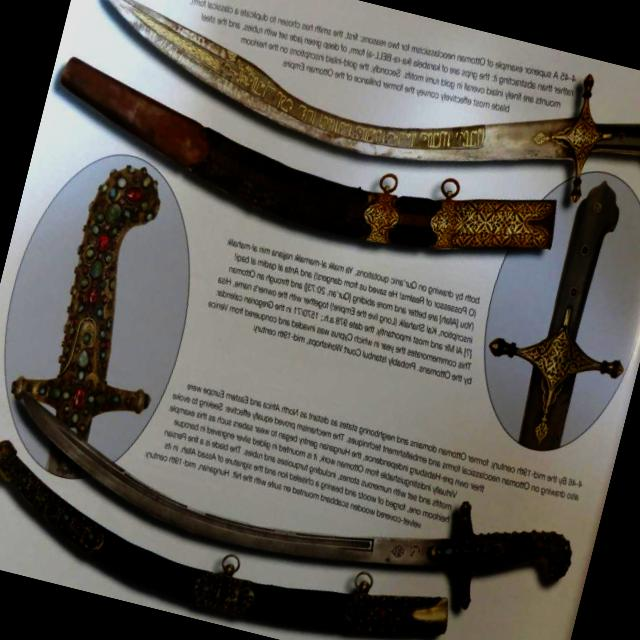long sword: (0, 371, 581, 634), (67, 0, 640, 234)
